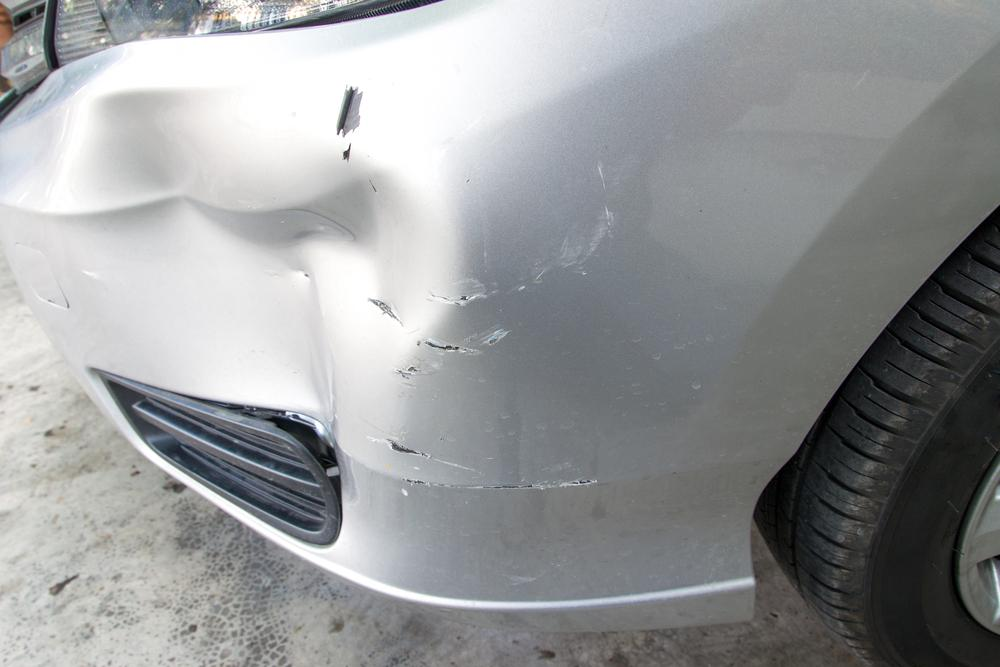dent: (59, 86, 441, 418)
scratch: (372, 159, 619, 498)
